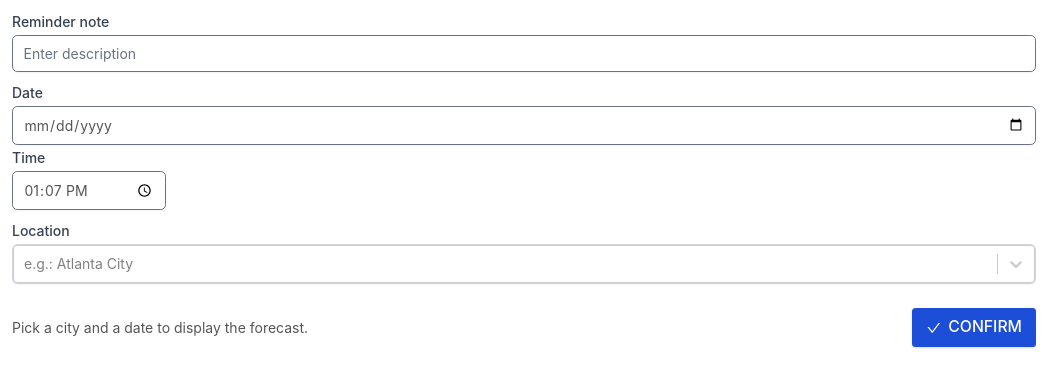
Scenario: <ReminderForm /> › should show description validation on blur on input
The image size is (1048, 387).
Type "This string contains more than thirty characters and should produce and error" into the field labelled "Reminder note" at (524, 54), box [12,35,1036,72]
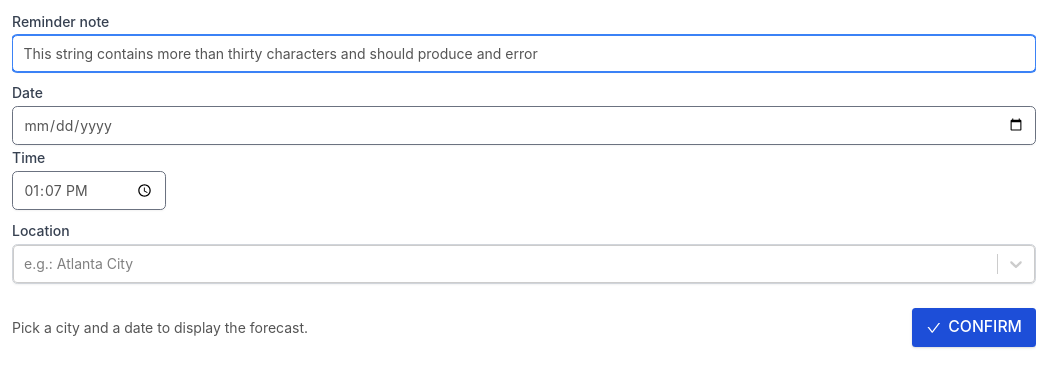
Leave the field labelled "Reminder note", box [12,35,1036,72]
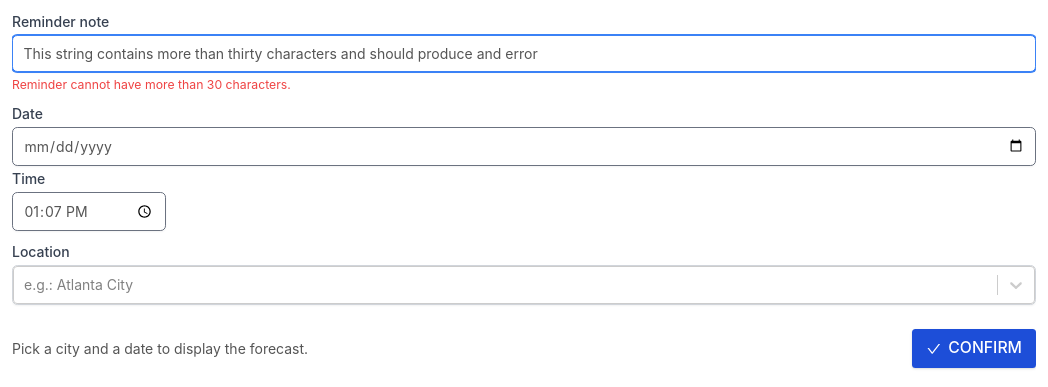
Now the text with test id "descriptionError" reads "Reminder cannot have more than 30 characters.", box [12,77,291,92]
